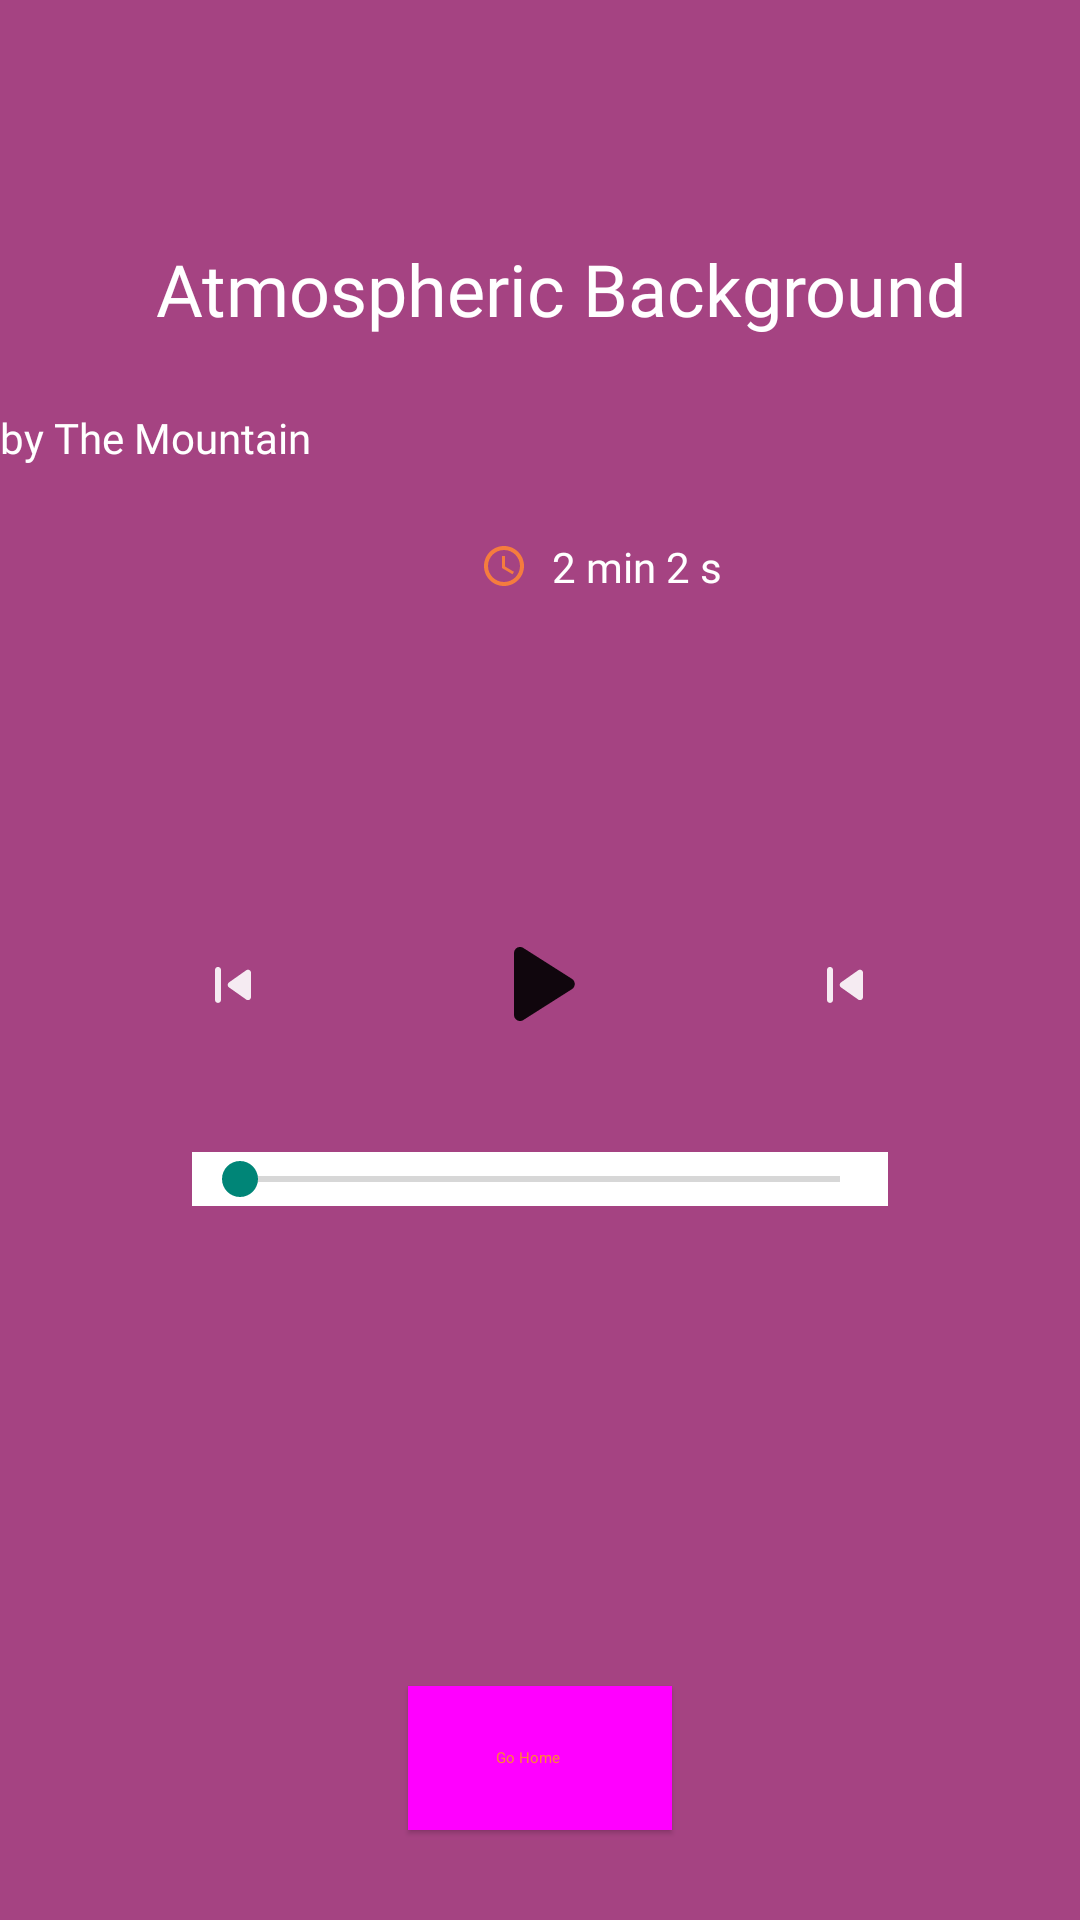

Screen size 1080*1920. Icon name, then its box in pixels as (x1, y1, x2, y2):
iconplay: (514, 947, 575, 1021)
iconskipleft: (215, 967, 251, 1003)
icontime: (484, 546, 524, 586)
